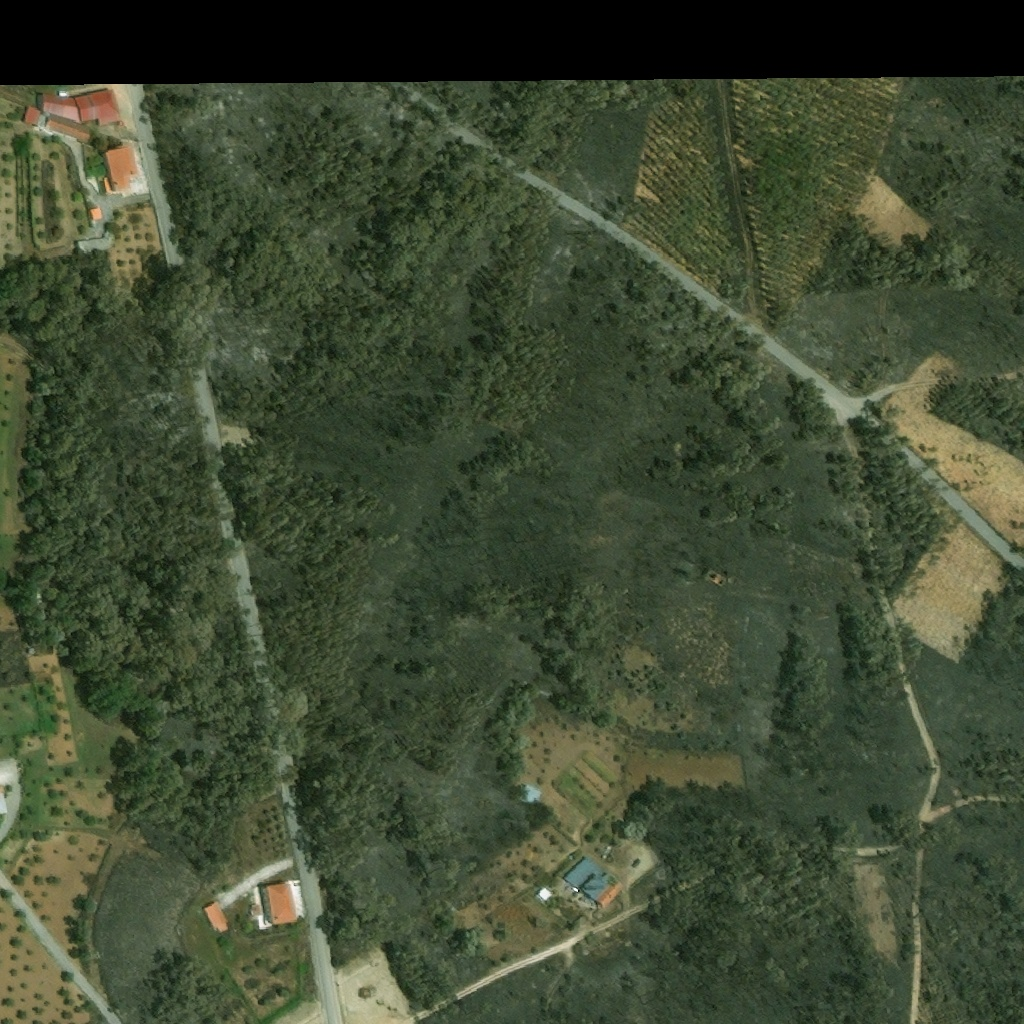0 no-damage: (561, 854, 621, 909), (43, 90, 120, 126), (259, 880, 299, 923), (103, 145, 139, 191), (46, 116, 90, 141), (204, 900, 231, 933), (26, 107, 40, 127), (536, 886, 551, 902), (90, 210, 102, 221), (252, 905, 262, 915)
2 major-damage: (512, 780, 540, 805)
4 un-classified: (0, 786, 8, 814)
